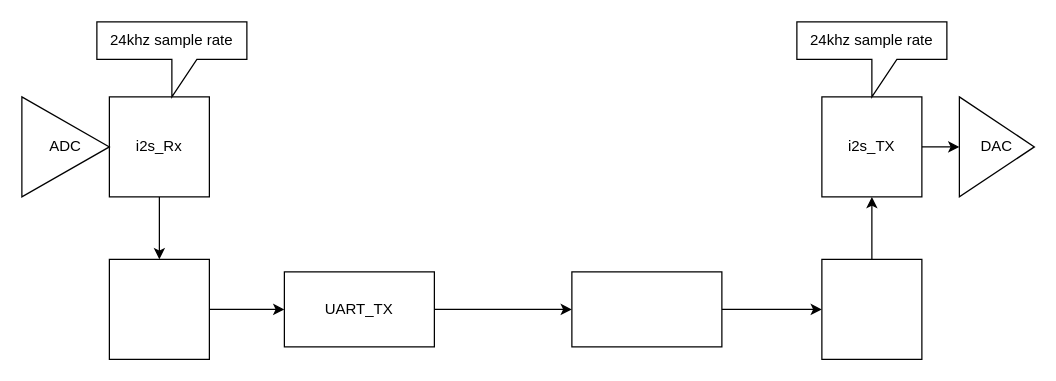
Image size: 1056x381. Some labels were removed from this diagram. The shapes that lost their labels are listed below. From the top down, each one's centre as x and y in pixels, then its label:
At (x=158, y=308): "FIFO_WR".
At (x=646, y=309): "UART_RX".
At (x=871, y=308): "FIFO_RD".
